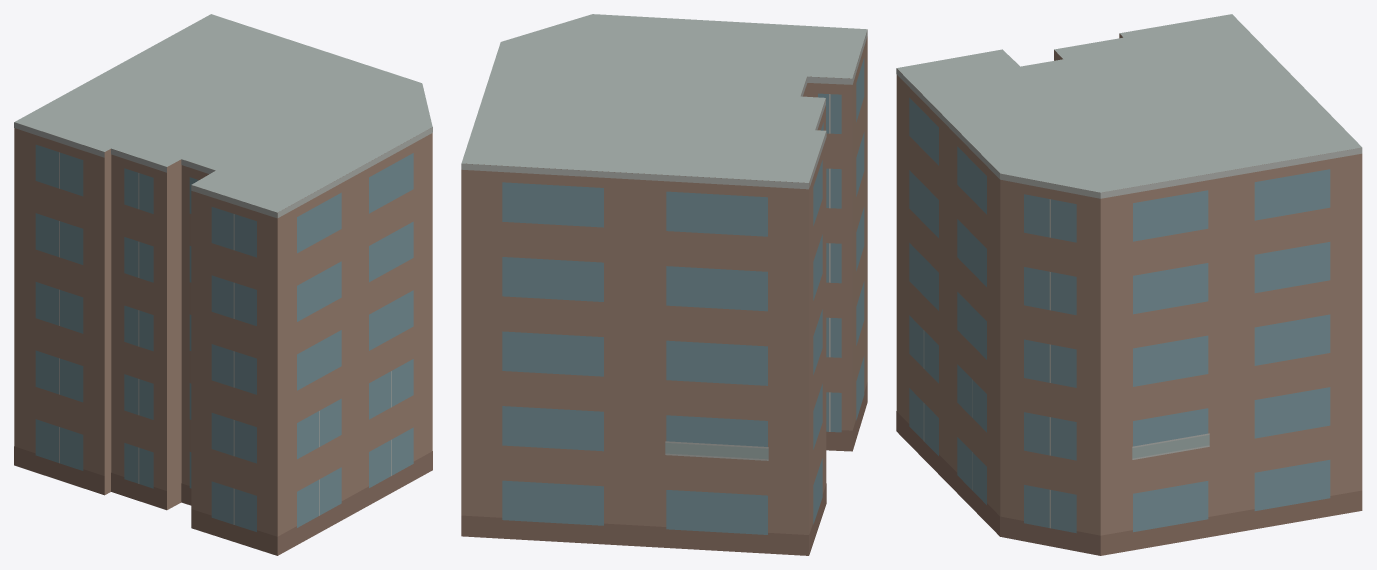
File: survey-upis-32845486.glb
3 views of the same model, side by side, from view 1: azimuth 30°, elevation 25°; view 2: azimuth 150°, elevation 25°; view 3: azimuth 270°, elevation 25° (orthographic). The views are drawn at different scales.
Parts seen in each view (by area): view 1: survey-upis-32845486.tmp; view 2: survey-upis-32845486.tmp; view 3: survey-upis-32845486.tmp.
Boxes of the visible parts, bbox=[...] form: survey-upis-32845486.tmp: bbox=[14, 14, 432, 555]; survey-upis-32845486.tmp: bbox=[461, 14, 867, 555]; survey-upis-32845486.tmp: bbox=[896, 14, 1362, 555].
Size of the model in its own units: 15.25 by 14.45 by 16.81.
